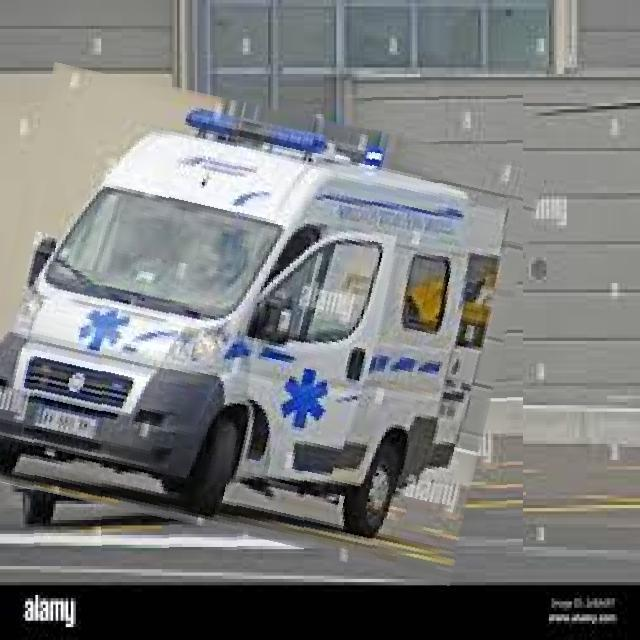ambulance: (0, 87, 523, 560)
